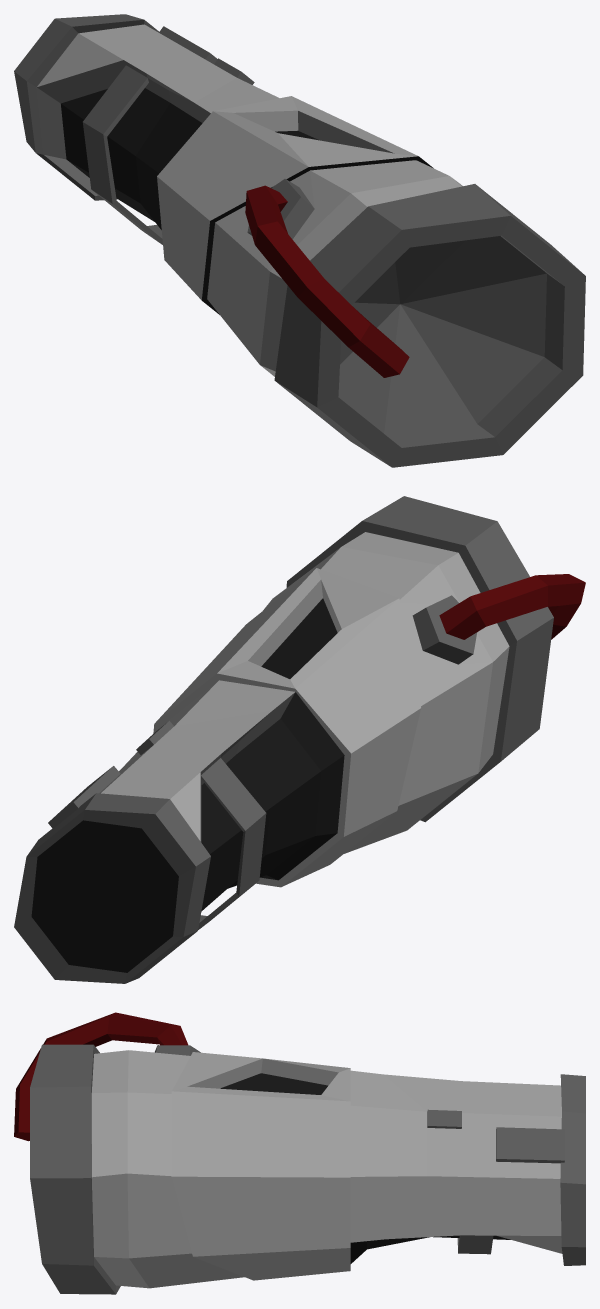
File: mechanicArm.glb
The picture shows the model from 3 angles, top to bottom: view 1: azimuth 30°, elevation 25°; view 2: azimuth 150°, elevation 25°; view 3: azimuth 270°, elevation 25°; orthographic projection. The views are drawn at different scales.
Parts seen in each view (by area): view 1: arm; view 2: arm; view 3: arm.
Boxes of the visible parts, x1,y1,x2,y2 form: arm: (14, 14, 585, 467); arm: (14, 496, 585, 983); arm: (14, 1012, 585, 1294).
Bounding box in the file's own units: 14.72 × 13.1 × 33.
